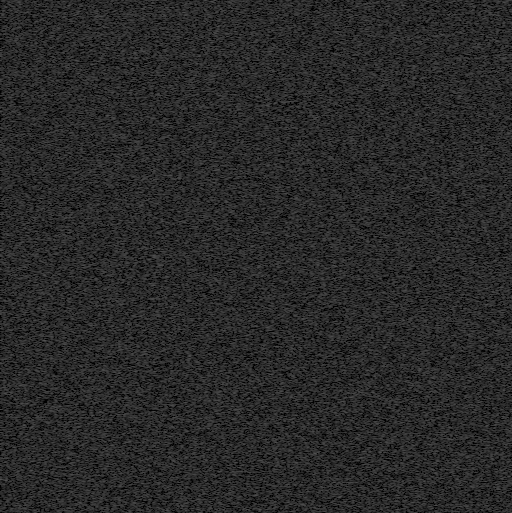wv_am: (29, 0, 34, 513)
wv_cw: (28, 0, 33, 513)
wv_dvbt_8kfft: (276, 0, 488, 513)
wv_usb: (480, 152, 485, 224), (480, 59, 484, 137), (480, 468, 484, 513), (480, 326, 485, 352), (480, 6, 484, 37), (480, 405, 484, 428), (480, 369, 484, 389), (480, 445, 484, 463), (480, 237, 484, 252), (481, 38, 484, 56), (480, 274, 484, 287), (480, 394, 485, 404), (480, 142, 485, 151), (480, 261, 484, 272), (480, 225, 484, 236), (481, 308, 484, 322), (480, 353, 484, 363), (480, 429, 484, 438), (480, 253, 485, 260), (480, 295, 484, 303), (481, 288, 484, 294), (480, 364, 484, 368), (481, 439, 484, 444), (480, 464, 484, 467), (481, 304, 484, 307)
wv_wbfm: (85, 0, 93, 513), (219, 0, 227, 513)
